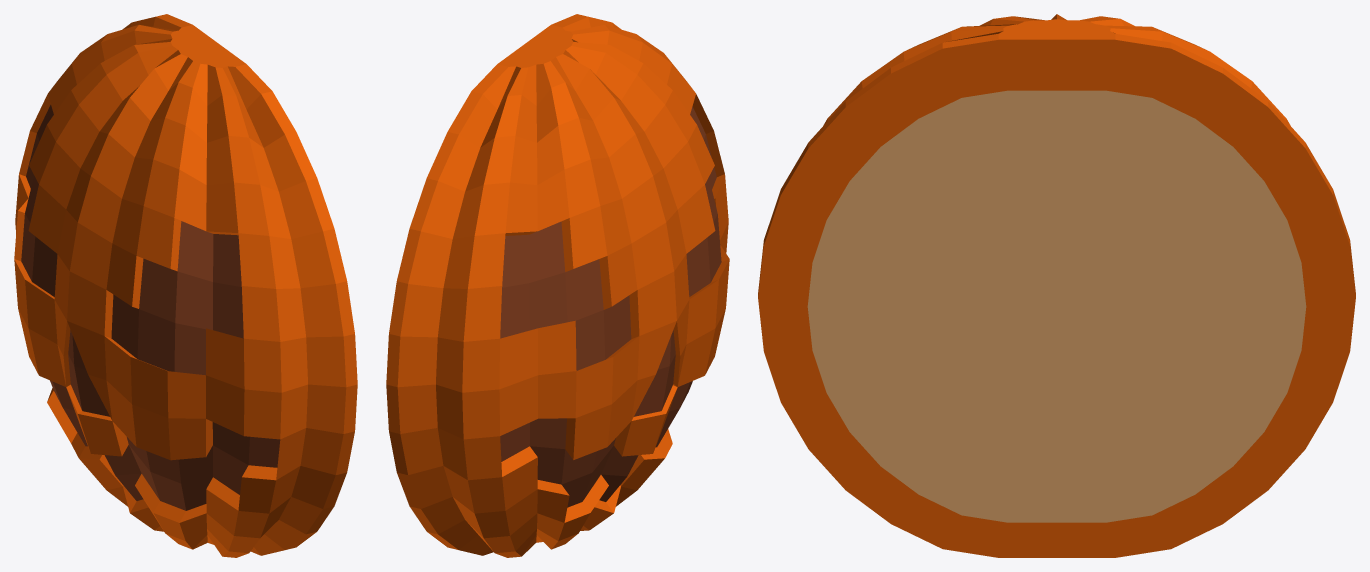
File: Boss.fbx
The picture shows the model from 3 angles, left to right: view 1: azimuth 30°, elevation 25°; view 2: azimuth 150°, elevation 25°; view 3: azimuth 270°, elevation 25°; orthographic projection. The views are drawn at different scales.
Visible parts, largest first — view 1: Sphere; view 2: Sphere; view 3: Sphere.
Boxes of the visible parts, x1=… form: Sphere: x1=14, y1=14, x2=357, y2=557; Sphere: x1=386, y1=14, x2=729, y2=557; Sphere: x1=758, y1=14, x2=1355, y2=557.
Bounding box in the file's own units: 63.98 × 191 × 200.
